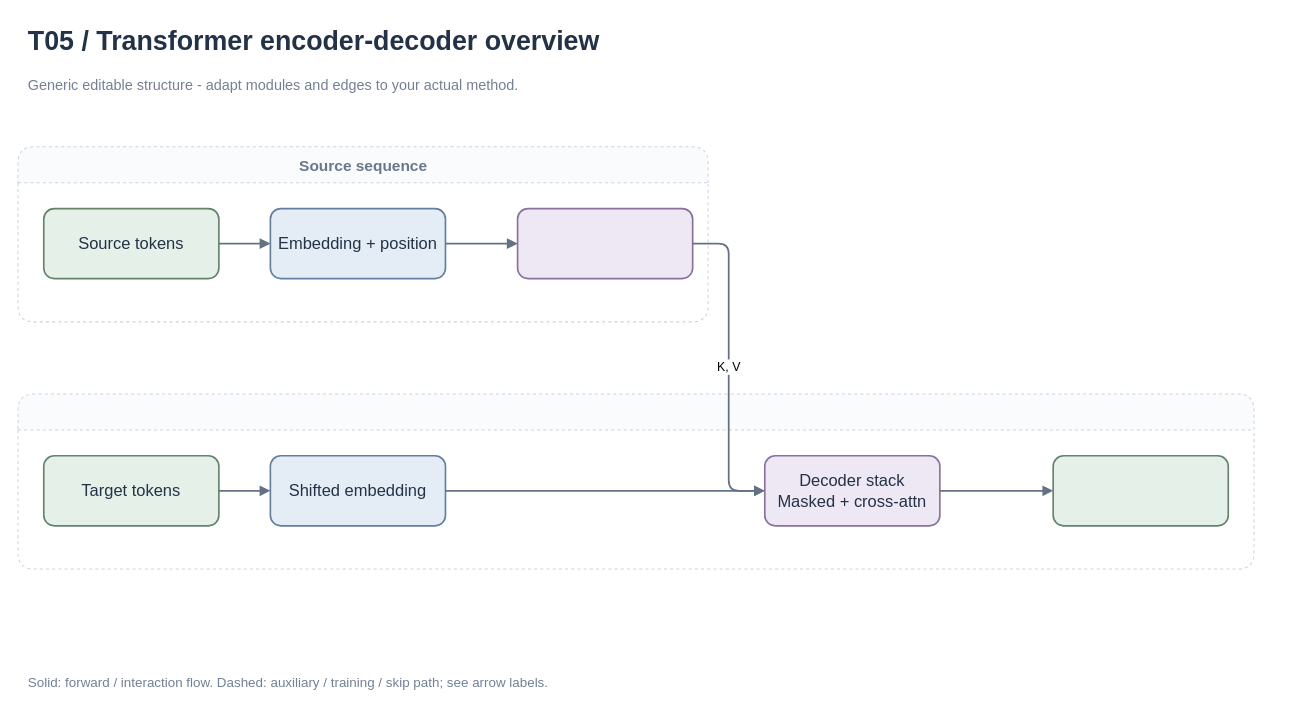
Some shapes in this 1311 by 716 pixel diagram are drawn without their labels. The shapes that lost their labels are listed below. From the top down, each one's box as (x1, y1, x2, y2) in pixels, then its label:
(516, 207, 693, 279): Encoder stack Self-attn -> FFN
(17, 393, 1254, 569): Autoregressive target sequence
(1052, 454, 1229, 526): Linear + softmax
